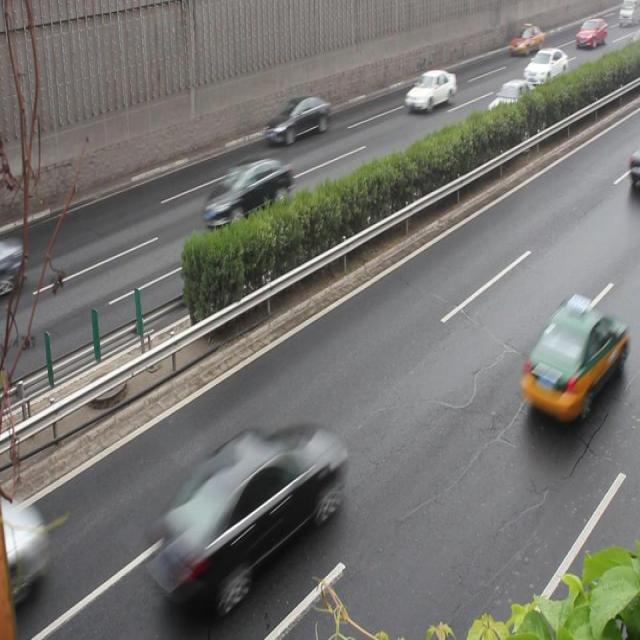car: (149, 427, 337, 616), (520, 298, 622, 421), (202, 156, 293, 228), (262, 96, 330, 146), (404, 69, 456, 115), (486, 79, 538, 124), (522, 47, 567, 89)
